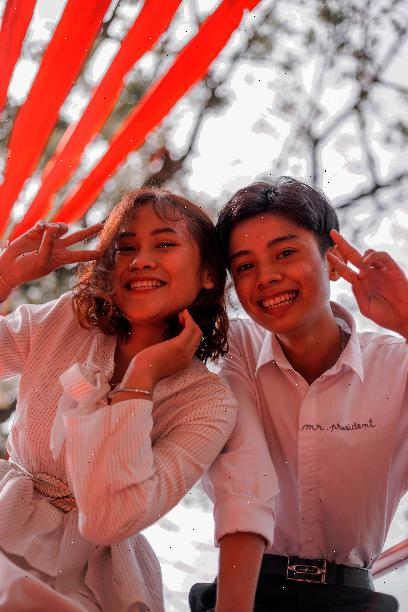Scissors: (326, 225, 408, 340), (3, 214, 105, 286)
